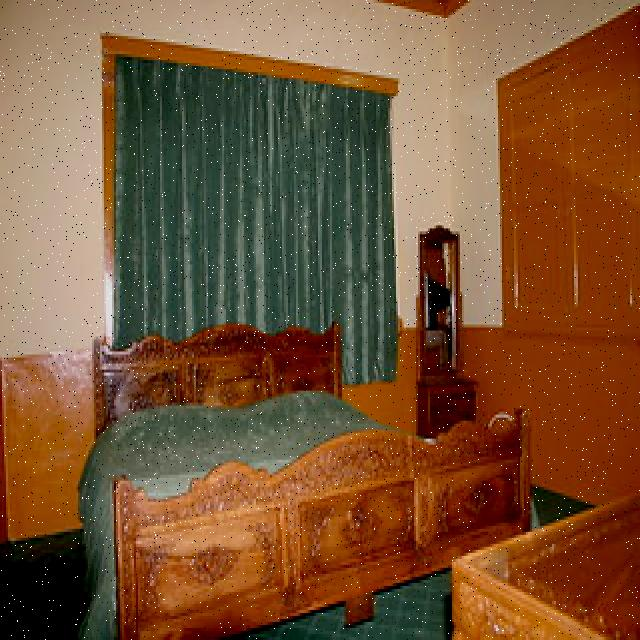bed: (81, 335, 436, 640)
